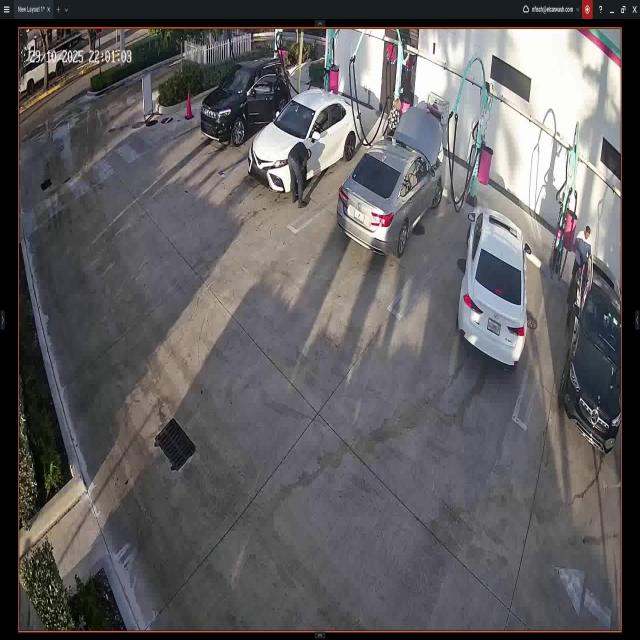Car: (338, 109, 444, 255), (249, 86, 363, 188), (566, 248, 622, 449), (458, 206, 525, 369), (202, 59, 293, 147)
